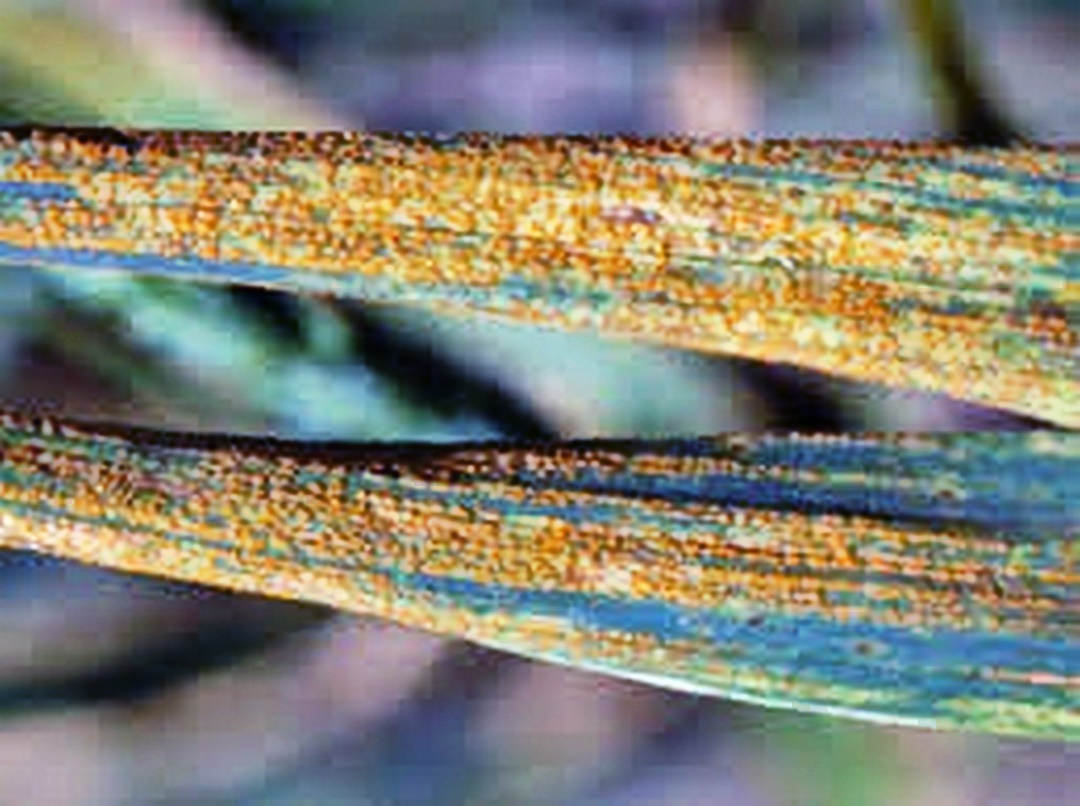Leaf Rust: (91, 425, 941, 703), (80, 131, 979, 392)
